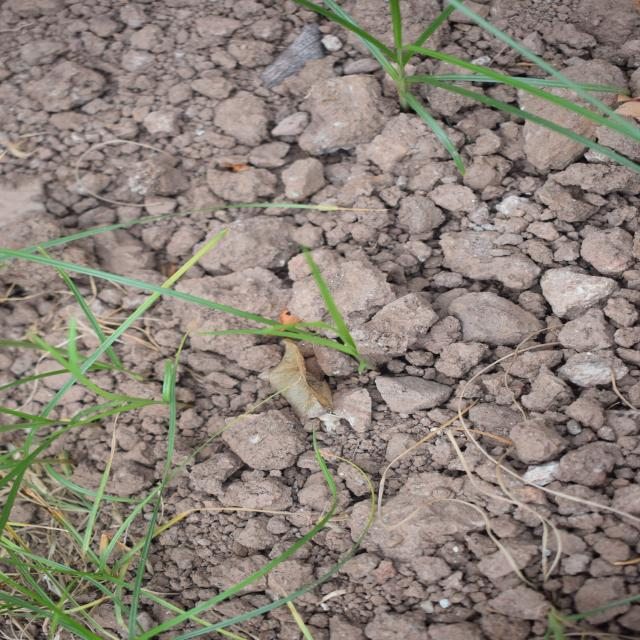sedge: (448, 248, 640, 640), (279, 31, 429, 416)
